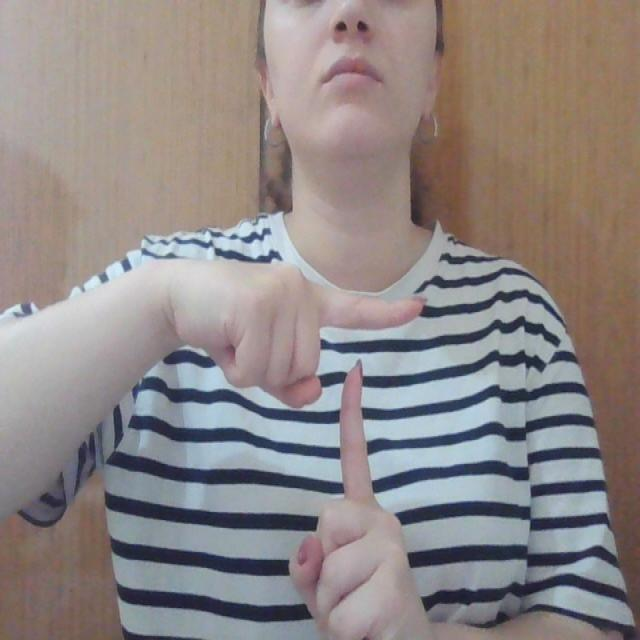Tesekkurler: (290, 266, 428, 516)
